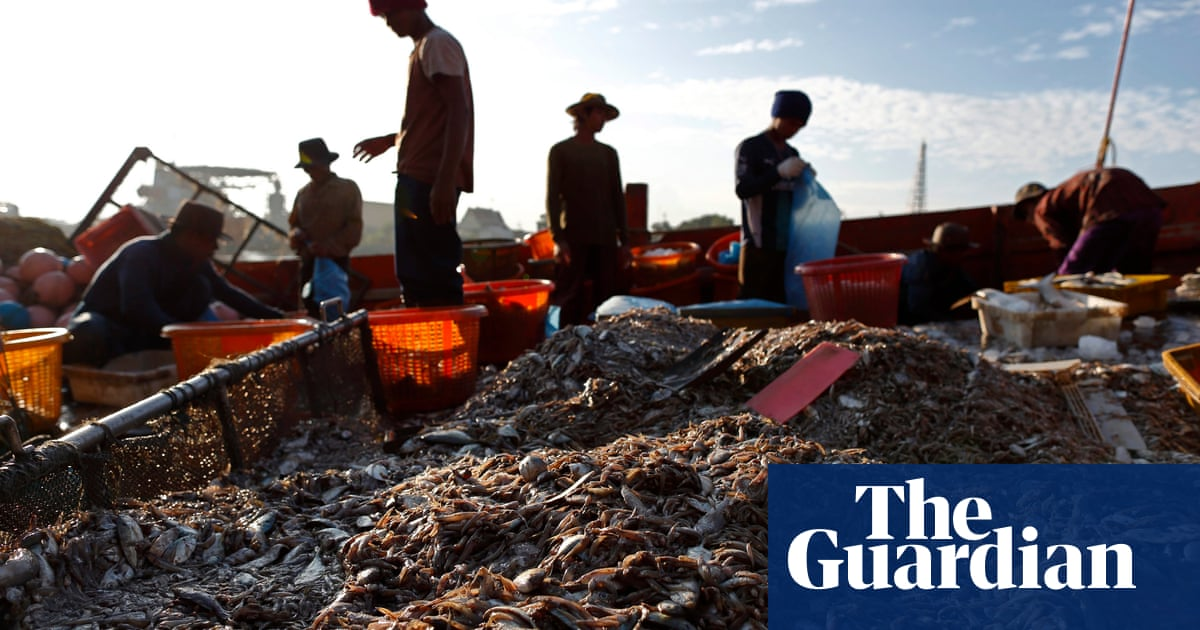noepi: (351, 1, 476, 311), (66, 201, 298, 360), (544, 84, 633, 328), (725, 86, 810, 302), (1011, 164, 1165, 271), (281, 137, 370, 317), (895, 221, 984, 322)
